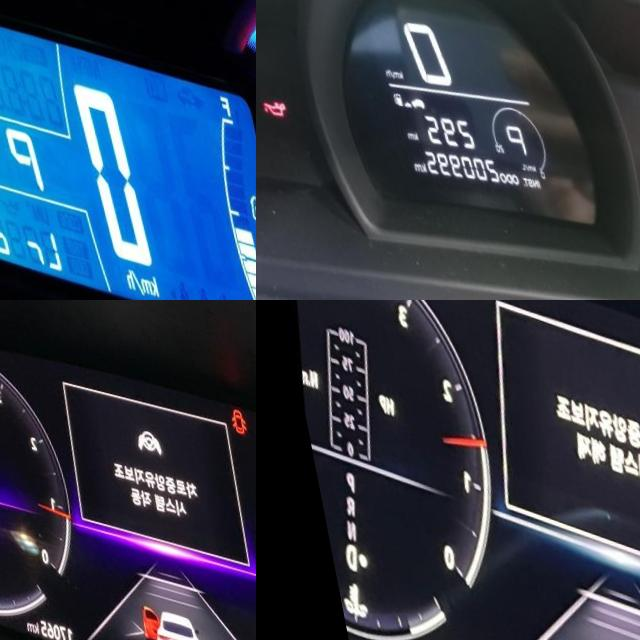Doors: (220, 385, 240, 414)
